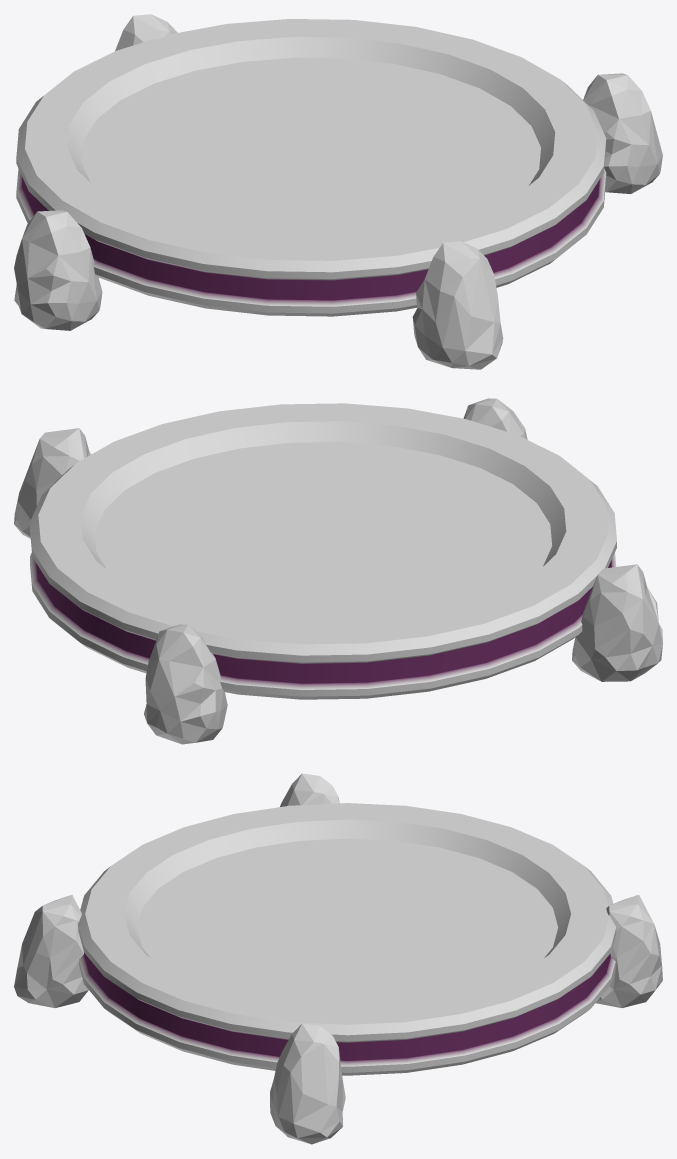
Rendered from Landing.fbx.
The picture shows the model from 3 angles, top to bottom: view 1: azimuth 30°, elevation 25°; view 2: azimuth 150°, elevation 25°; view 3: azimuth 270°, elevation 25°; orthographic projection. The views are drawn at different scales.
Visible parts, largest first — view 1: Cylinder, Cube.067; view 2: Cylinder, Cube.067; view 3: Cylinder, Cube.067.
Boxes of the visible parts, bbox=[...] form: Cylinder: bbox=[16, 19, 606, 316]; Cube.067: bbox=[14, 14, 662, 369]; Cylinder: bbox=[30, 403, 616, 699]; Cube.067: bbox=[14, 398, 662, 744]; Cylinder: bbox=[78, 803, 616, 1075]; Cube.067: bbox=[14, 773, 662, 1144].
Size of the model in its own units: 1851 by 303 by 1783.
